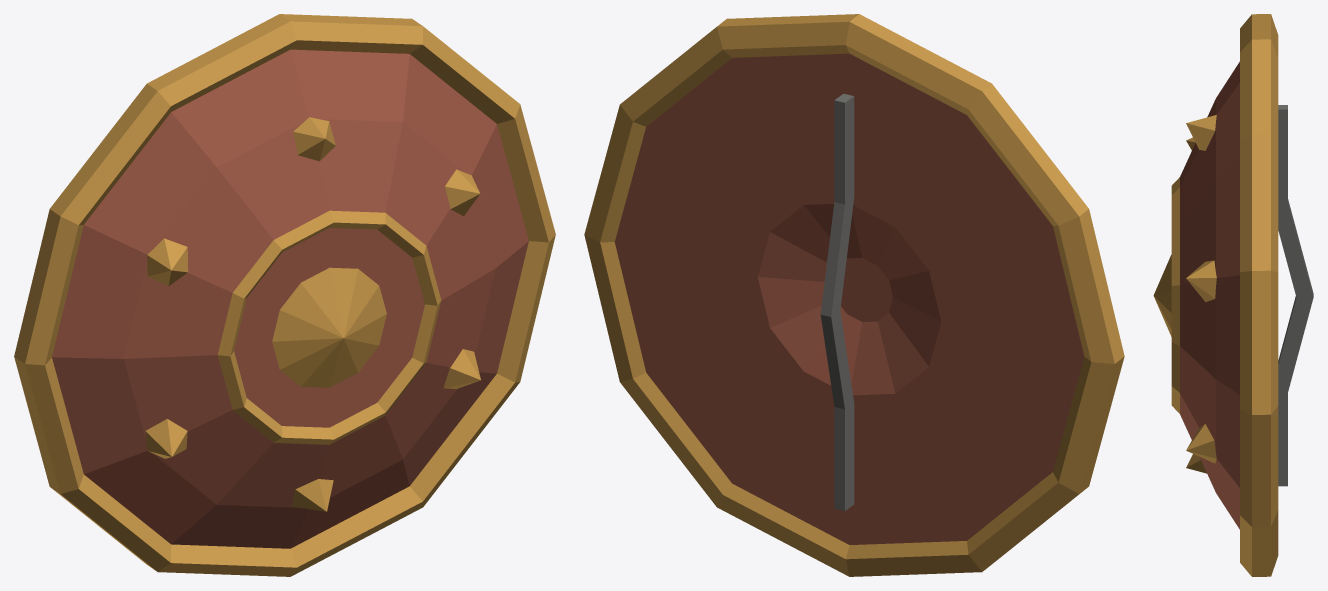
Rendered from SM_pwe_gauls_shield_04.fbx.
3 renders of one model, left to right at view 1: azimuth 30°, elevation 25°; view 2: azimuth 150°, elevation 25°; view 3: azimuth 270°, elevation 25°, orthographic. The views are drawn at different scales.
Visible parts, largest first — view 1: SM_pwe_gauls_shield_04; view 2: SM_pwe_gauls_shield_04; view 3: SM_pwe_gauls_shield_04.
Boxes of the visible parts, left/top/right/bottom form: SM_pwe_gauls_shield_04: left=14, top=14, right=555, bottom=576; SM_pwe_gauls_shield_04: left=584, top=14, right=1124, bottom=576; SM_pwe_gauls_shield_04: left=1153, top=14, right=1313, bottom=576.
Size of the model in its own units: 70.51 by 70.44 by 19.95.
